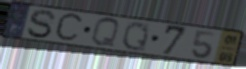5: (190, 28, 218, 60)
7: (161, 23, 188, 57)
C: (52, 12, 85, 44)
Q: (90, 16, 121, 49), (120, 20, 151, 53)
S: (26, 8, 59, 40)
